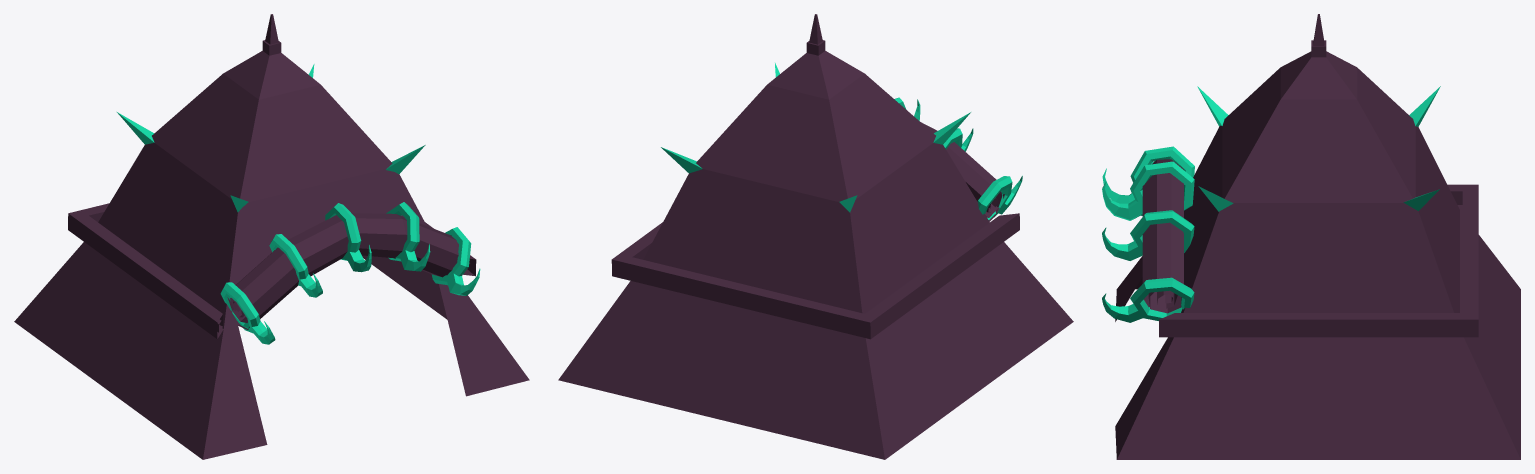
Rendered from merchant.fbx.
3 renders of one model, left to right at view 1: azimuth 30°, elevation 25°; view 2: azimuth 150°, elevation 25°; view 3: azimuth 270°, elevation 25°, orthographic. The views are drawn at different scales.
Visible parts, largest first — view 1: Cube, Torus.003, Torus.001, Torus.005, Torus, Torus.002; view 2: Cube, Torus.005; view 3: Cube, Torus.003, Torus, Torus.001, Torus.002.
Boxes of the visible parts, bbox=[...] form: Cube: bbox=[14, 14, 529, 459]; Torus.003: bbox=[431, 227, 480, 295]; Torus.001: bbox=[386, 202, 430, 271]; Torus.005: bbox=[220, 282, 275, 344]; Torus: bbox=[325, 203, 371, 272]; Torus.002: bbox=[269, 234, 322, 297]; Cube: bbox=[558, 14, 1073, 459]; Torus.005: bbox=[977, 175, 1022, 220]; Cube: bbox=[1115, 14, 1520, 459]; Torus.003: bbox=[1102, 277, 1194, 322]; Torus: bbox=[1102, 161, 1194, 219]; Torus.001: bbox=[1102, 210, 1194, 260]; Torus.002: bbox=[1102, 146, 1194, 203].
Size of the model in its own units: 6.6 by 6.49 by 6.84.
